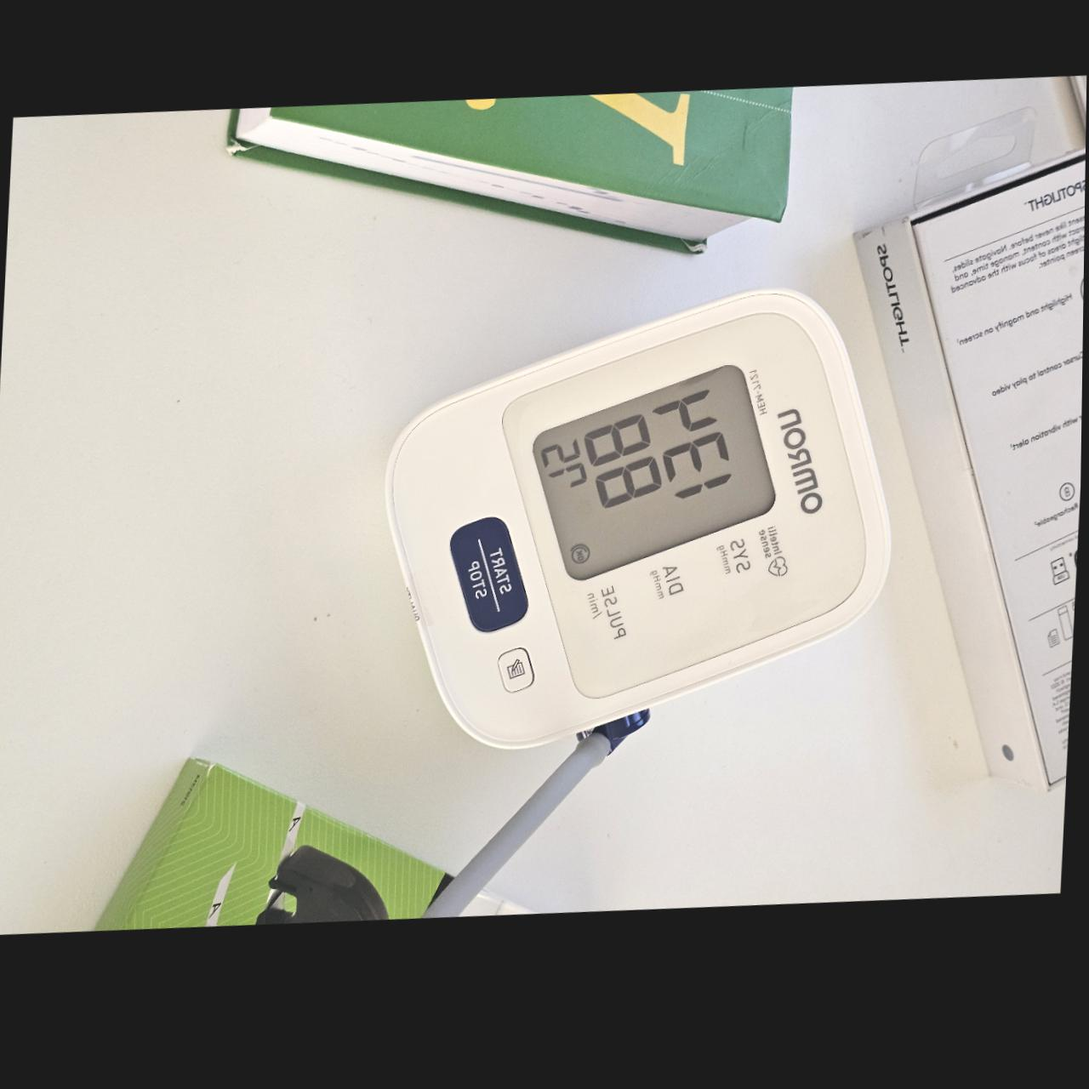blood pressure monitor: (371, 262, 903, 772)
